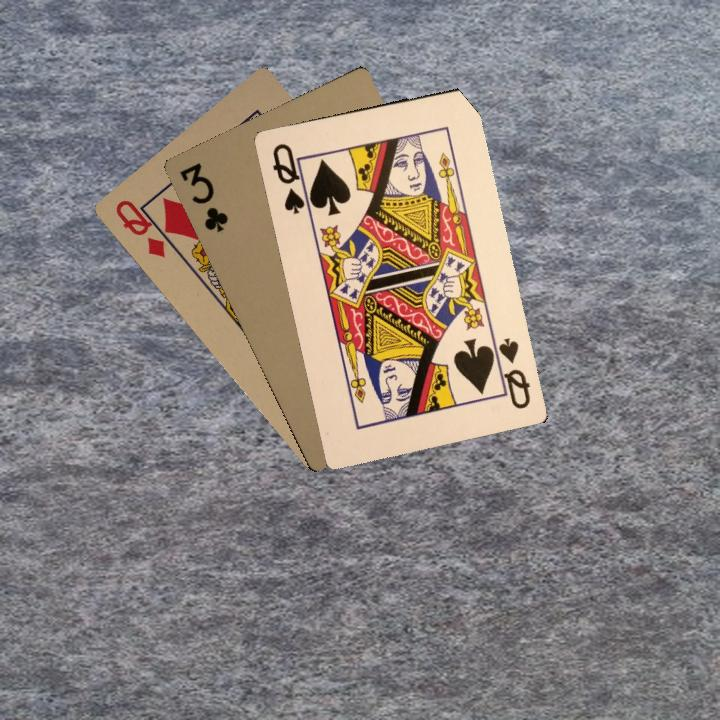3c: (176, 158, 231, 235)
Qd: (111, 195, 182, 261)
Qs: (268, 139, 314, 217), (487, 334, 533, 412)
